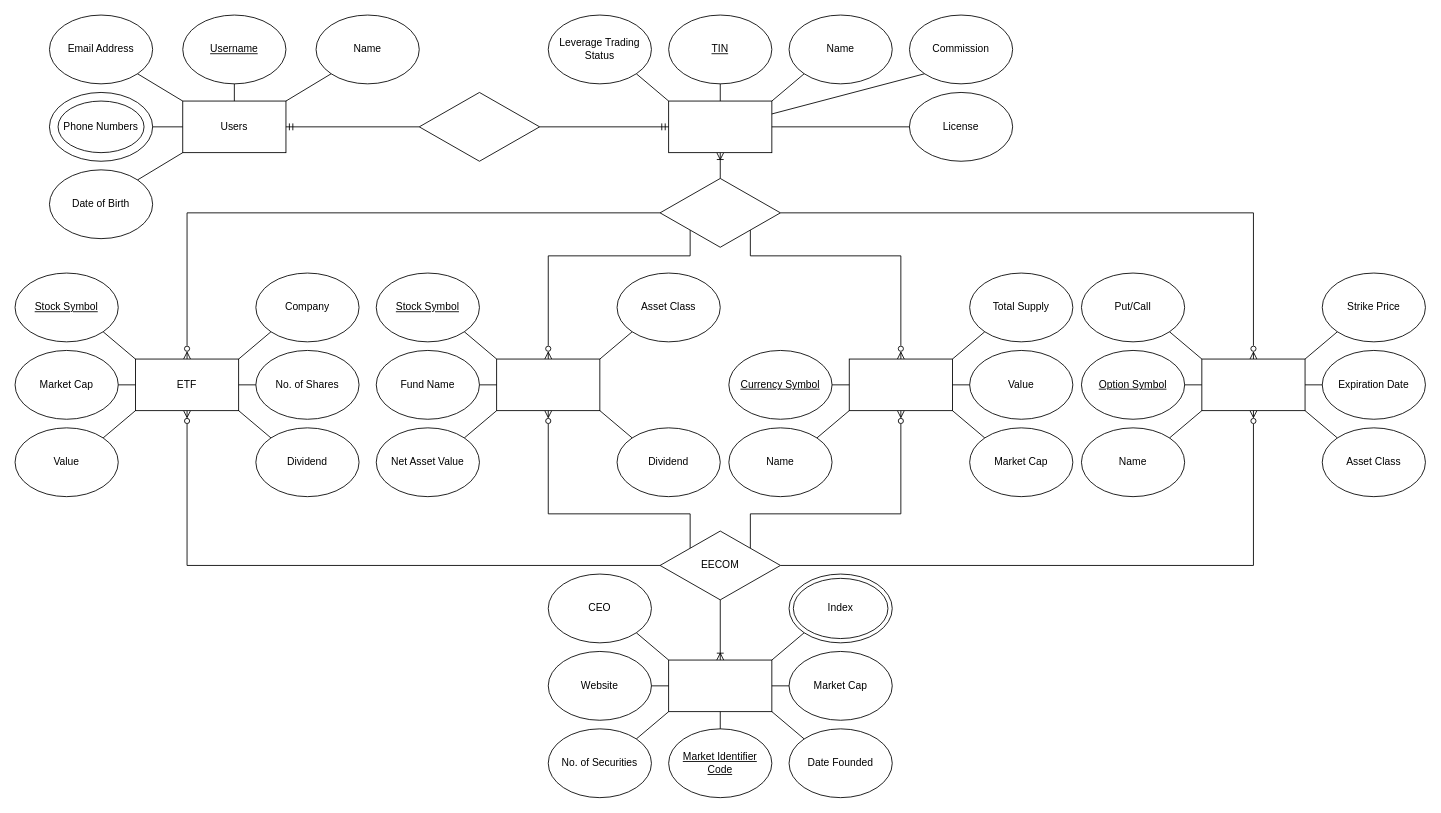
This 1441x813 diagram has some shape labels left out. The shapes that lost their labels are listed below. From the top down, each one's box as (x1, y1, x2, y2) in pixels, then its label:
(418, 92, 540, 161): User-Broker
(668, 100, 772, 153): Brokers
(659, 178, 780, 247): BECOM
(496, 358, 600, 411): Mutual Fund
(848, 358, 952, 411): Cryptocurrency
(1201, 358, 1305, 411): Option
(668, 659, 772, 712): Exchange
